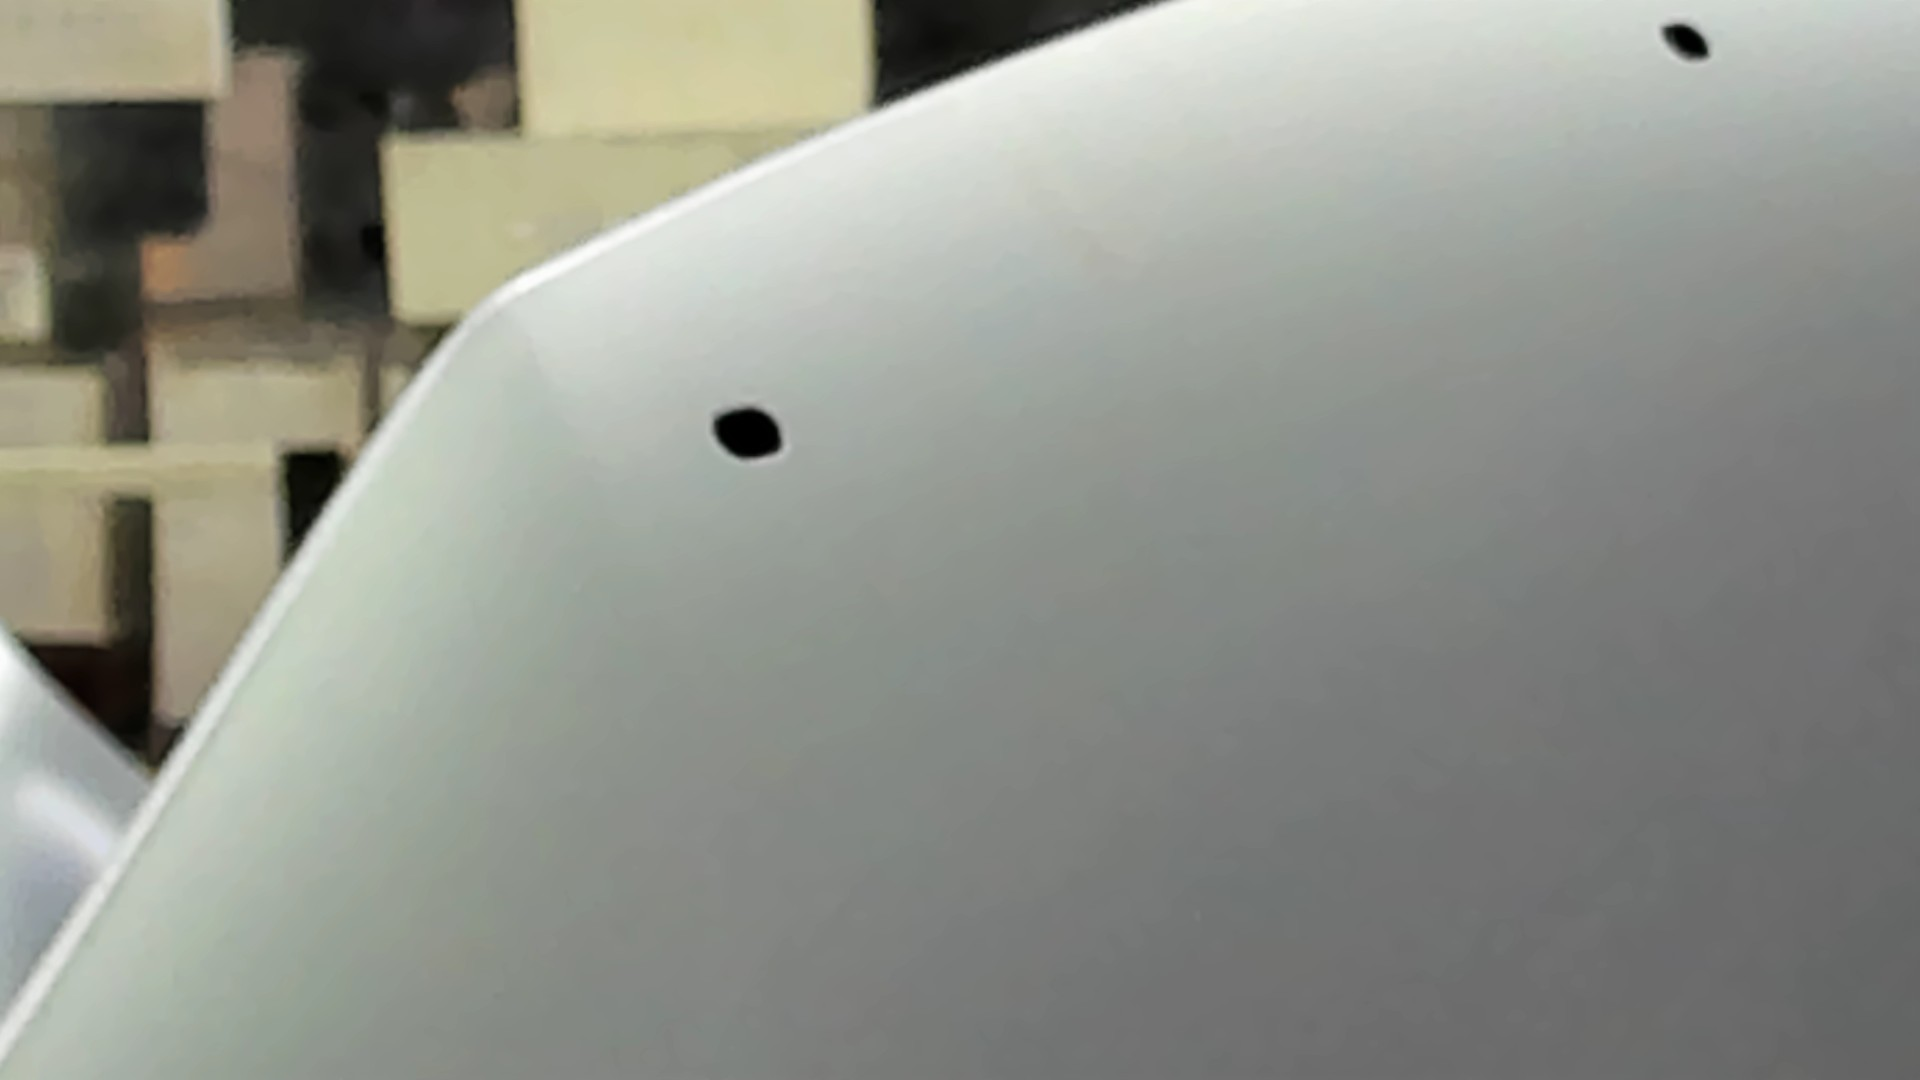amorfo: (705, 401, 791, 468), (1654, 15, 1718, 67)
capo: (910, 141, 1920, 1080)
